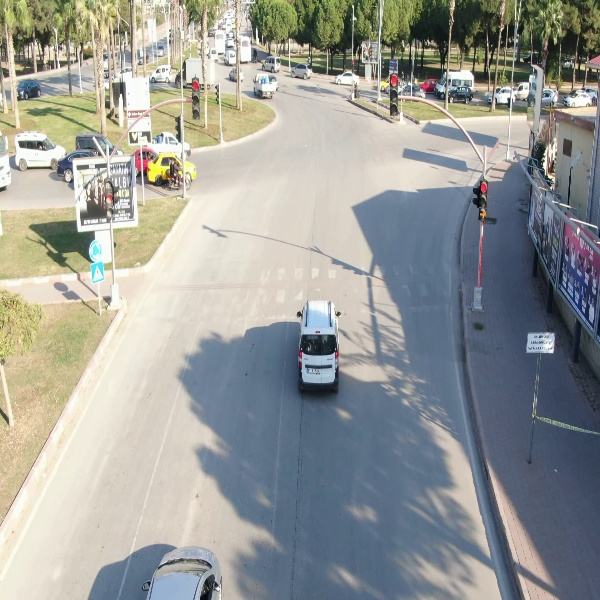car: (294, 297, 344, 391), (14, 131, 67, 172), (448, 83, 476, 106), (16, 76, 42, 100), (564, 88, 594, 108), (287, 63, 313, 81), (337, 69, 360, 88), (149, 62, 172, 81), (262, 55, 283, 74)
